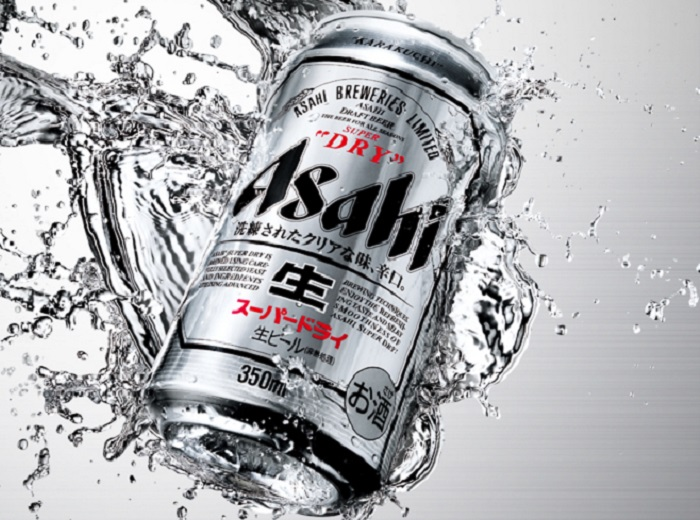can: (139, 6, 517, 510)
